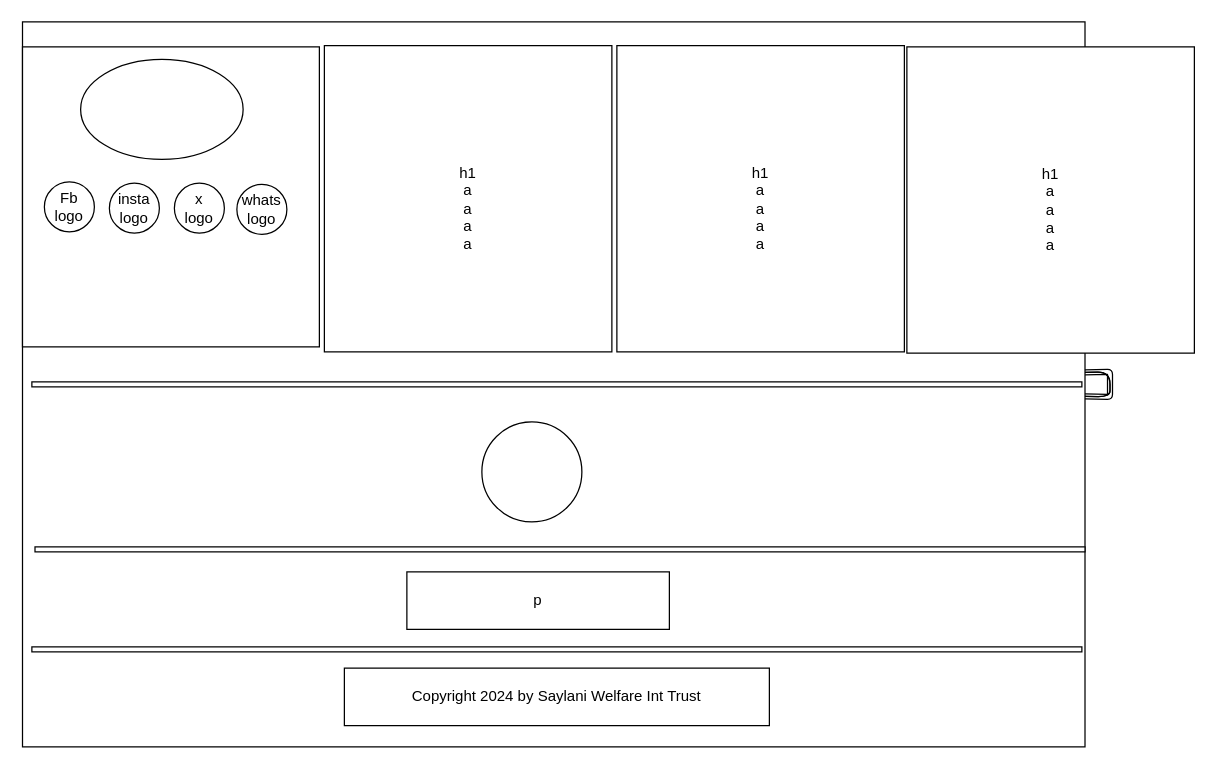
The diagram is 1216 pixels wide and 769 high, and some of its shapes have lost their labels. The shapes that lost their labels are listed below. From the top down, each one's box as (x1, y1, x2, y2) in pixels, then its label:
(79, 58, 243, 159): Saylani Logo
(481, 421, 582, 522): ACCA logo
